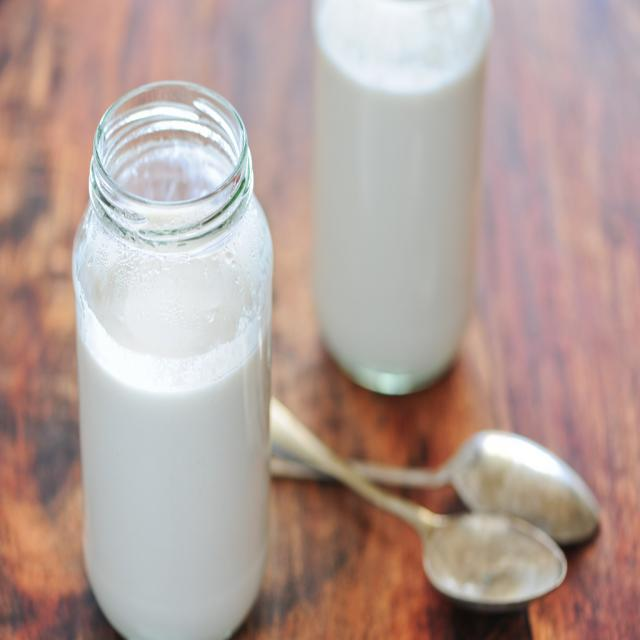Milk: (73, 255, 271, 639), (310, 56, 482, 380)
